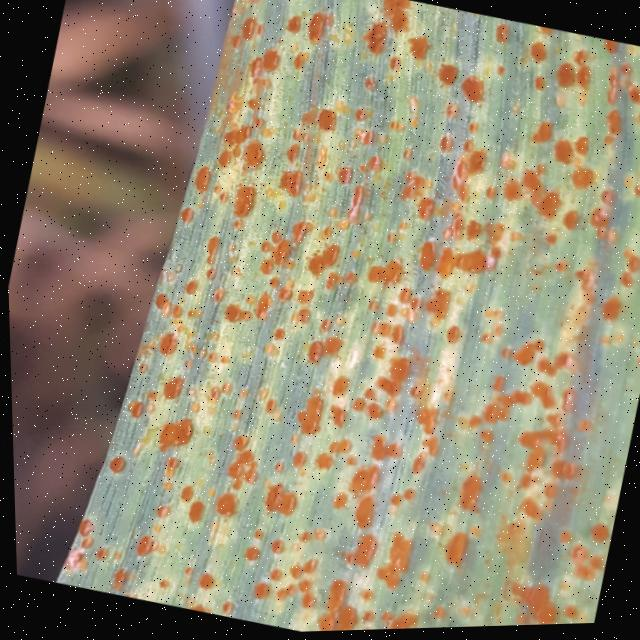orang_rust: (31, 0, 640, 639)
